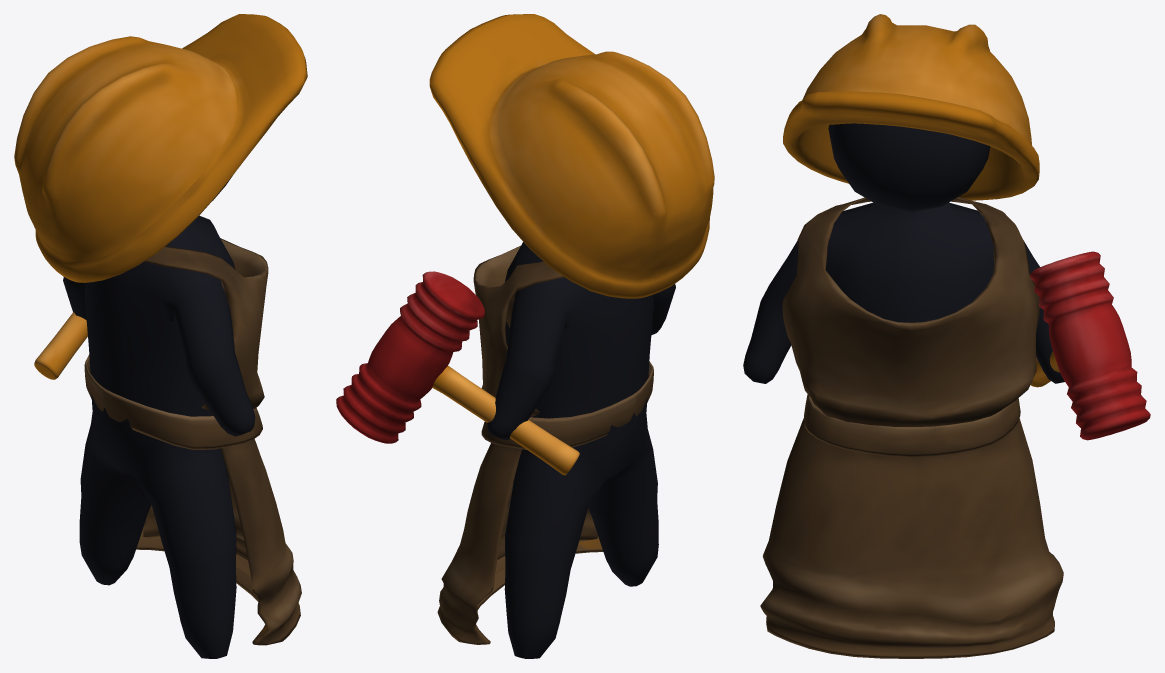
Rendered from SM_NPC1.fbx.
The picture shows the model from 3 angles, left to right: view 1: azimuth 30°, elevation 25°; view 2: azimuth 150°, elevation 25°; view 3: azimuth 270°, elevation 25°; orthographic projection. The views are drawn at different scales.
Parts seen in each view (by area): view 1: polySurface23; view 2: polySurface23; view 3: polySurface23.
Part boxes in pixels (x1,y1,x2,y2): polySurface23: [14, 14, 307, 658]; polySurface23: [336, 14, 714, 658]; polySurface23: [743, 14, 1150, 658].
Size of the model in its own units: 59.26 by 119 by 75.33.
Materials: 1 (1 with a texture image).
